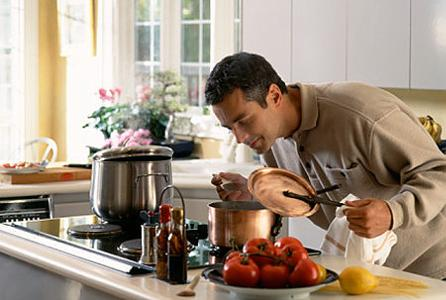person: (210, 52, 446, 281)
